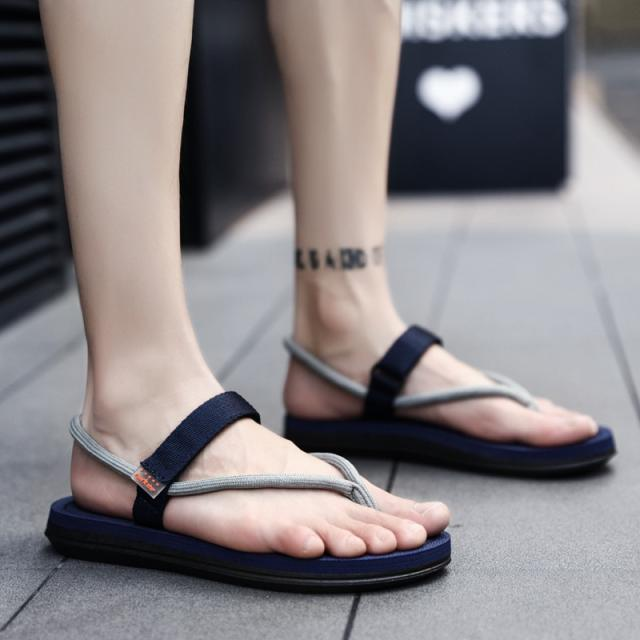Sandals: (41, 391, 456, 594)
